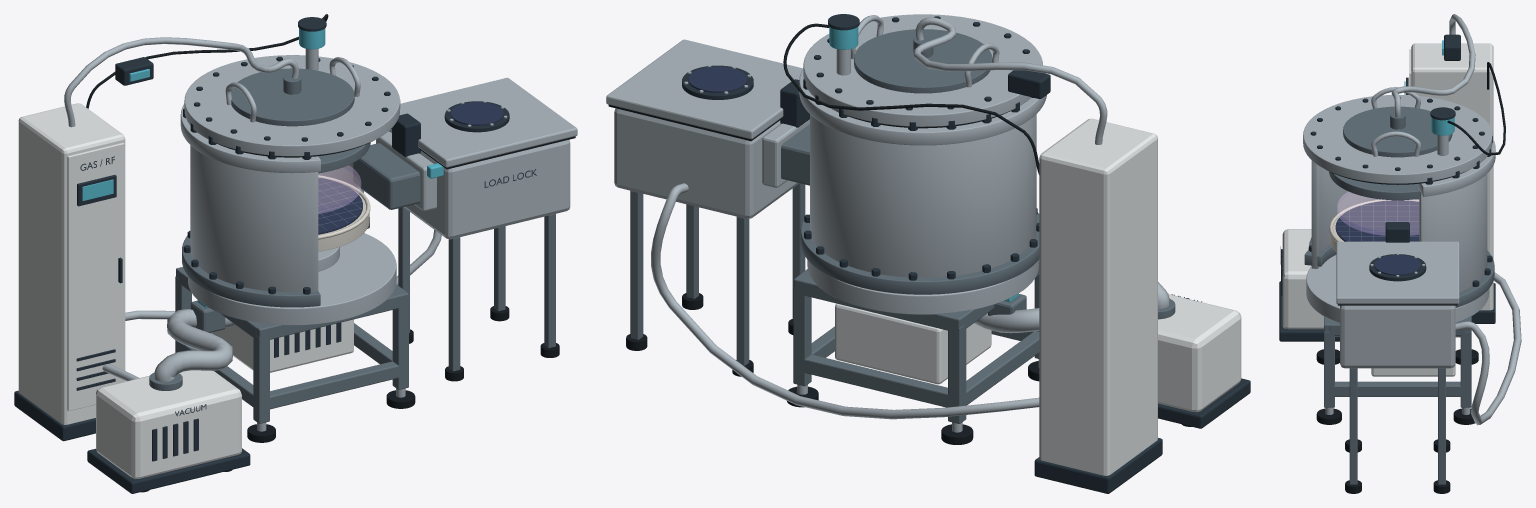
The model's file is secom.glb.
3 views of the same model, side by side, from view 1: azimuth 30°, elevation 25°; view 2: azimuth 150°, elevation 25°; view 3: azimuth 270°, elevation 25° (orthographic). The views are drawn at different scales.
Parts seen in each view (by area): view 1: static_chamber_brushed_stainless, static_chamber_service_enamel, static_chamber_machined_steel, static_chamber_graphite, static_chamber_wafer, static_chamber_seals, static_chamber_plasma, static_sensor_chamber, static_chamber_ceramic; view 2: static_chamber_brushed_stainless, static_chamber_service_enamel, static_chamber_machined_steel, static_chamber_graphite, static_chamber_seals, static_chamber_wafer; view 3: static_chamber_brushed_stainless, static_chamber_machined_steel, static_chamber_service_enamel, static_chamber_graphite, static_chamber_wafer, static_chamber_seals, static_chamber_plasma, static_chamber_die_grid, static_chamber_ceramic, static_sensor_chamber.
Boxes of the visible parts, x1,y1,x2,y2 form: static_chamber_brushed_stainless: [64, 37, 577, 431]; static_chamber_service_enamel: [18, 103, 353, 479]; static_chamber_machined_steel: [149, 68, 555, 423]; static_chamber_graphite: [14, 17, 509, 493]; static_chamber_wafer: [318, 102, 503, 234]; static_chamber_seals: [86, 14, 575, 492]; static_chamber_plasma: [318, 165, 360, 213]; static_sensor_chamber: [82, 28, 443, 307]; static_chamber_ceramic: [318, 175, 370, 251]; static_chamber_brushed_stainless: [606, 14, 1169, 432]; static_chamber_service_enamel: [835, 118, 1241, 475]; static_chamber_machined_steel: [630, 29, 1175, 423]; static_chamber_graphite: [682, 14, 1250, 493]; static_chamber_seals: [608, 23, 1191, 444]; static_chamber_wafer: [688, 66, 747, 92]; static_chamber_brushed_stainless: [1303, 14, 1521, 425]; static_chamber_machined_steel: [1304, 106, 1494, 484]; static_chamber_service_enamel: [1282, 43, 1493, 376]; static_chamber_graphite: [1279, 34, 1495, 341]; static_chamber_wafer: [1335, 200, 1420, 275]; static_chamber_seals: [1316, 62, 1505, 493]; static_chamber_plasma: [1337, 191, 1418, 235]; static_chamber_die_grid: [1337, 200, 1418, 241]; static_chamber_ceramic: [1329, 199, 1419, 251]; static_sensor_chamber: [1404, 40, 1454, 135].
Size of the model in its own units: 4.61 by 3.26 by 2.3.
